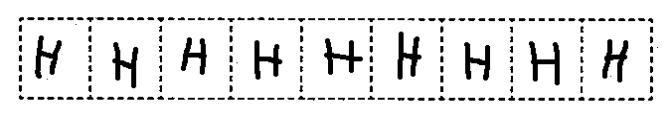H: (522, 38, 568, 88), (104, 38, 145, 93), (319, 33, 365, 80), (388, 26, 425, 80), (592, 33, 631, 84), (457, 37, 497, 86), (30, 31, 68, 82), (246, 36, 286, 84), (176, 35, 218, 78)
